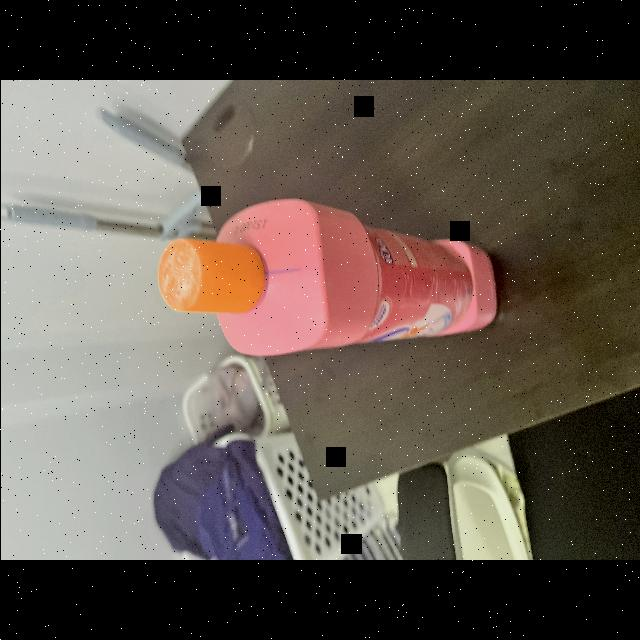chemical_plastic_bottle: (155, 194, 510, 362)
